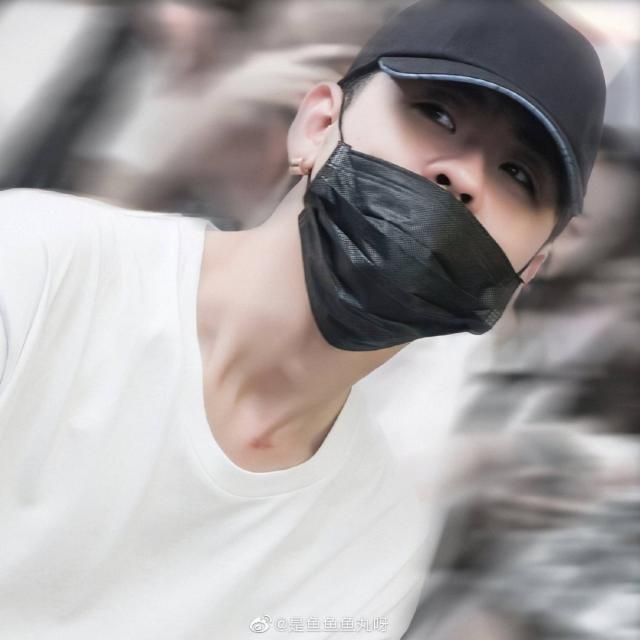hairnet: (314, 81, 560, 318)
